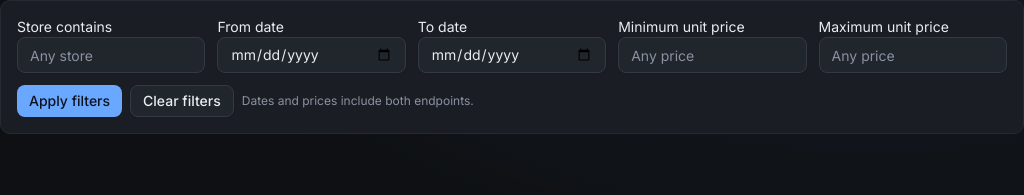
Test: rejects inverted price bounds without applying any draft
Type "2" into the number field labelled "Minimum unit price" at (712, 55), box 618,37 -> 807,73
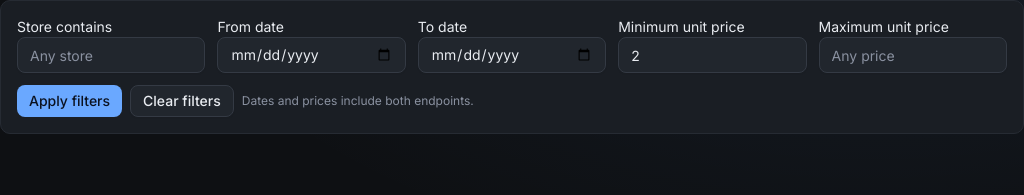
Type "1" into the number field labelled "Maximum unit price" at (913, 55), box 819,37 -> 1007,73
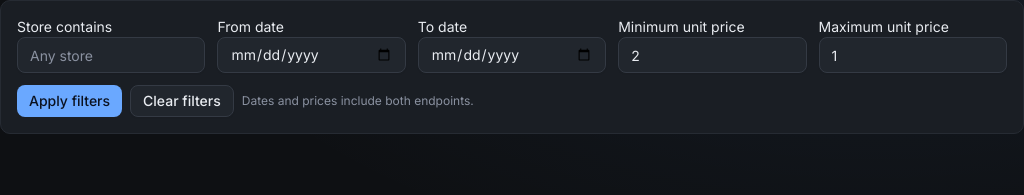
Click the button "Apply filters" at (70, 101), box 17,85 -> 122,117
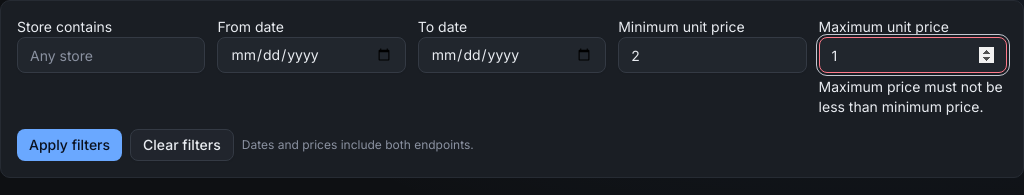
Result: the message reads "Maximum price must not be less than minimum price." at 819,78 -> 1003,115
